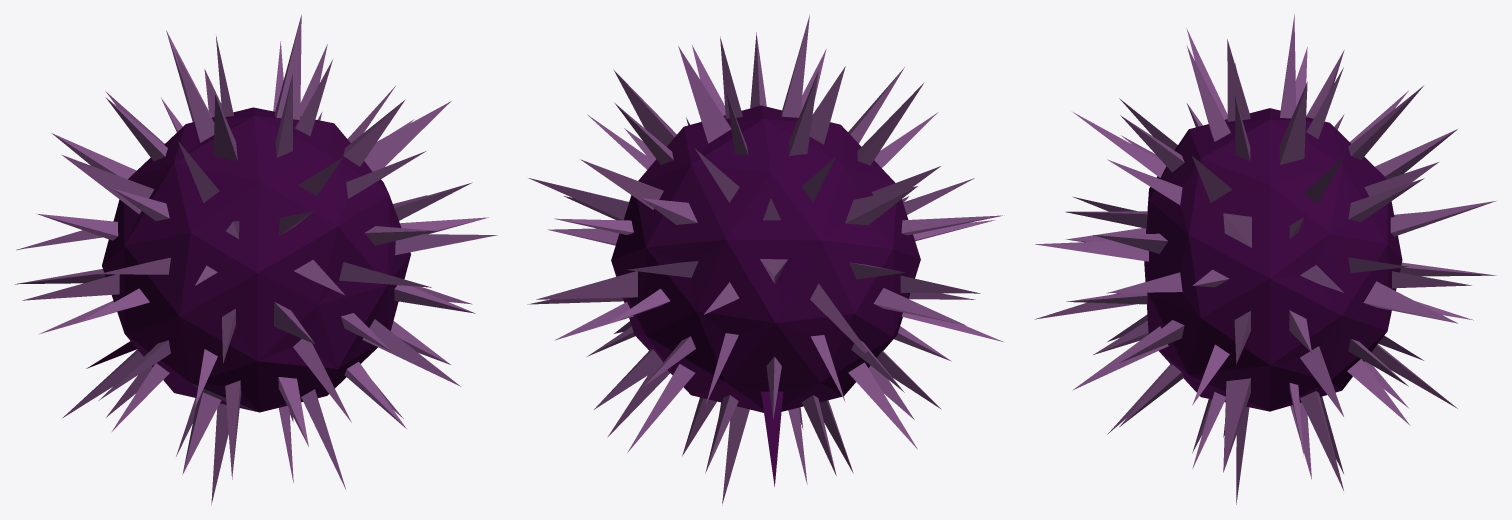
File: SeaUrchinDrip.glb
The picture shows the model from 3 angles, left to right: view 1: azimuth 30°, elevation 25°; view 2: azimuth 150°, elevation 25°; view 3: azimuth 270°, elevation 25°; orthographic projection.
Parts seen in each view (by area): view 1: SeaUrchinDrip; view 2: SeaUrchinDrip; view 3: SeaUrchinDrip.
Part boxes in pixels (x1,y1,x2,y2): SeaUrchinDrip: (15, 14, 497, 505); SeaUrchinDrip: (527, 14, 1004, 505); SeaUrchinDrip: (1034, 14, 1496, 504).
Bounding box in the file's own units: 0.2565 × 0.2442 × 0.2402.
1 material, 1 textured.
